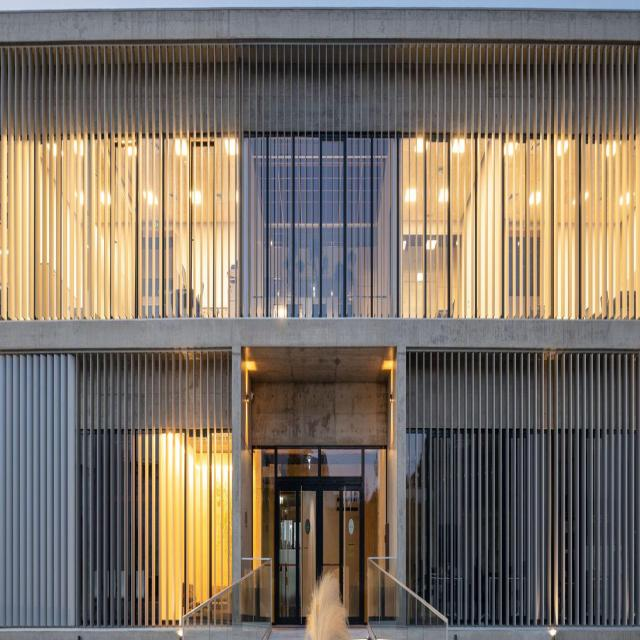door: (275, 477, 365, 623)
window: (1, 139, 639, 322), (80, 430, 232, 638), (252, 446, 388, 620)
